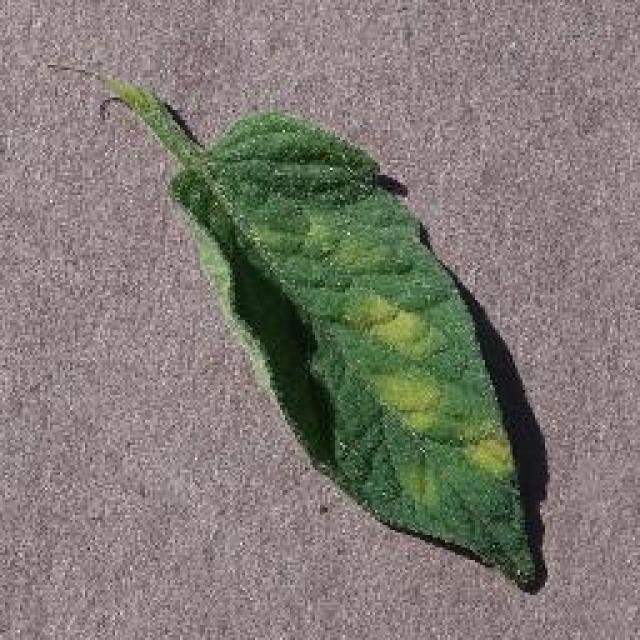Tomato___Leaf_Mold: (105, 80, 532, 580)
